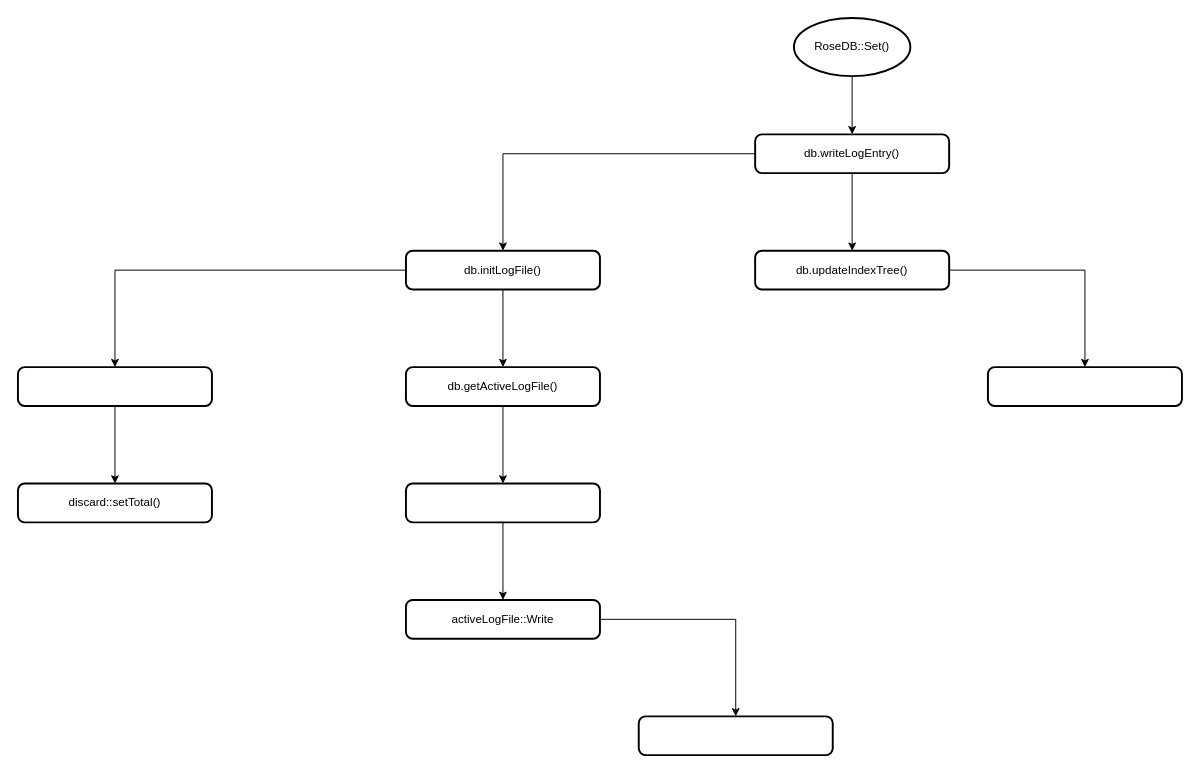
Some shapes in this 1199 by 772 pixel diagram are drawn without their labels. The shapes that lost their labels are listed below. From the top down, each one's centre as x and y in pixels, then its label:
At pixel 114 386: "logfile::OpenLogFile()".
At pixel 1084 386: "AdaptiveRadixTree::Put()".
At pixel 502 502: "logfile.EncodeEntry()".
At pixel 735 735: "IOSelector::Write()".
